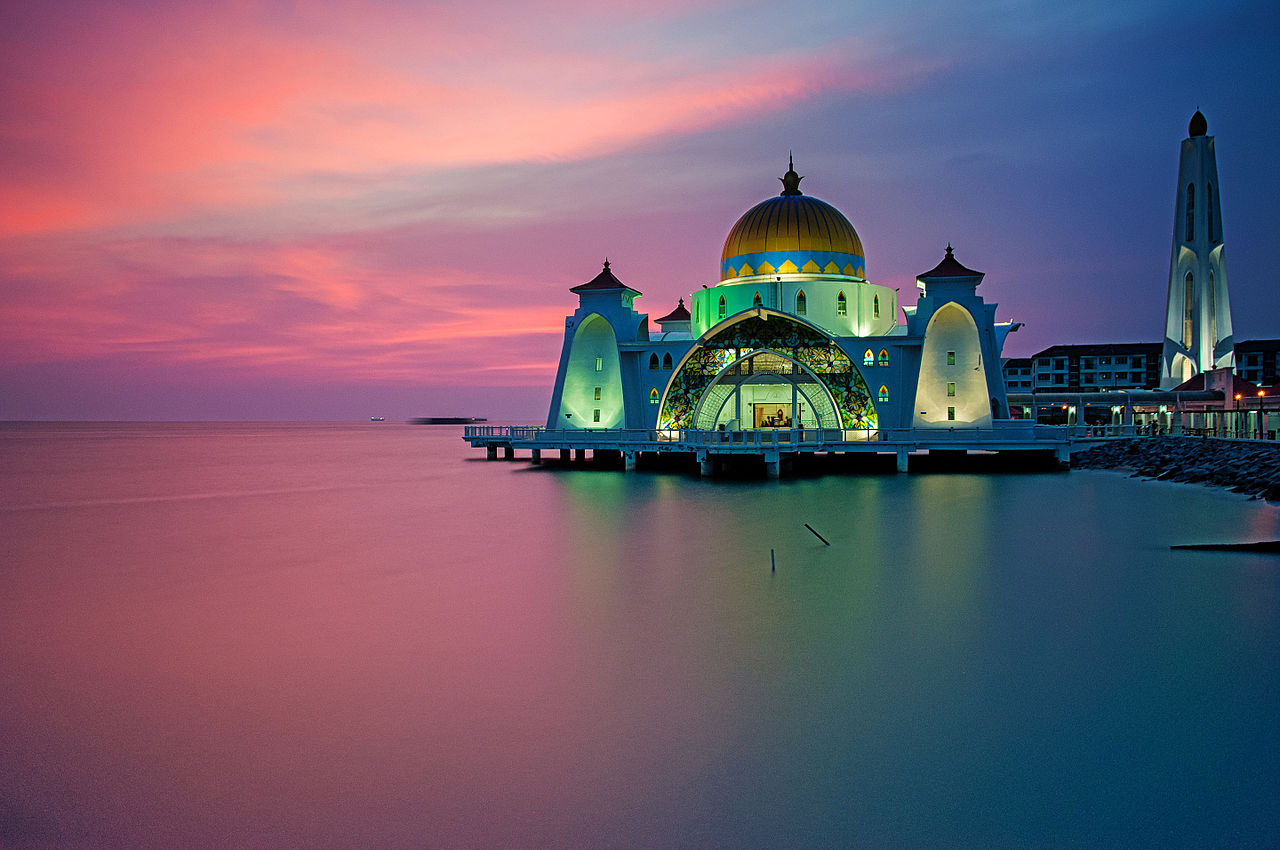Mosque: (561, 107, 1241, 480)
